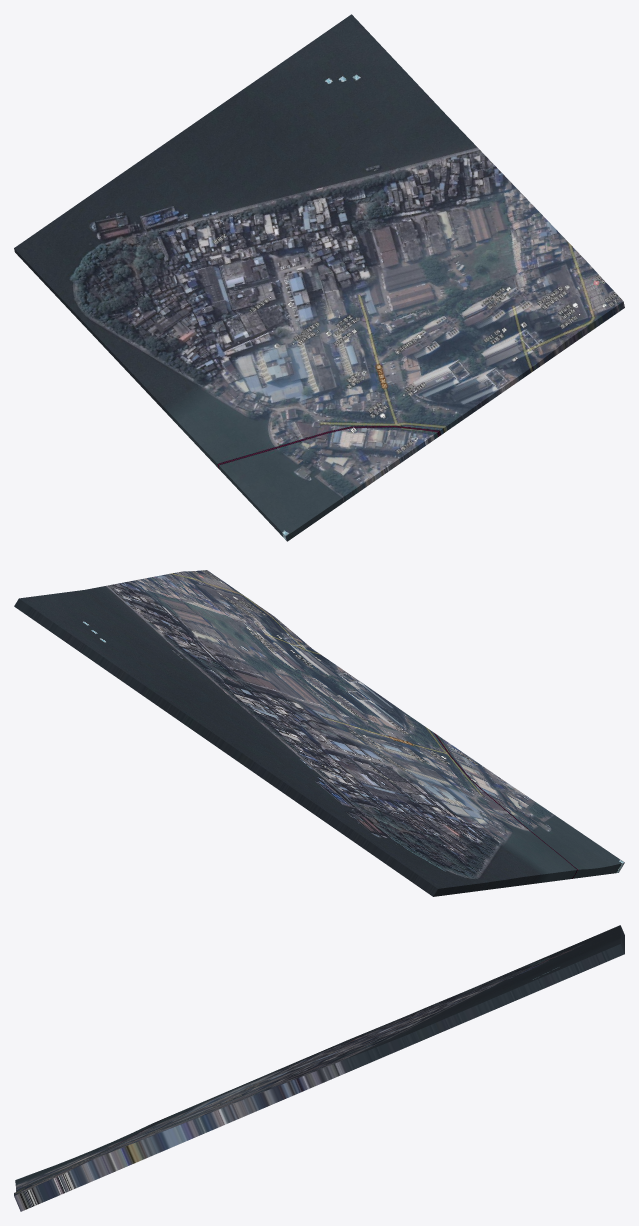
3 views of the same model, one above another, from view 1: azimuth 30°, elevation 25°; view 2: azimuth 150°, elevation 25°; view 3: azimuth 270°, elevation 25° (orthographic). The views are drawn at different scales.
Parts seen in each view (by area): view 1: 0_11_3; view 2: 0_11_3; view 3: 0_11_3.
Boxes of the visible parts, bbox=[...] form: 0_11_3: bbox=[14, 14, 624, 541]; 0_11_3: bbox=[14, 570, 624, 896]; 0_11_3: bbox=[14, 925, 624, 1211].
Size of the model in its own units: 596 by 436 by 548.
Materials: 1 (1 with a texture image).
